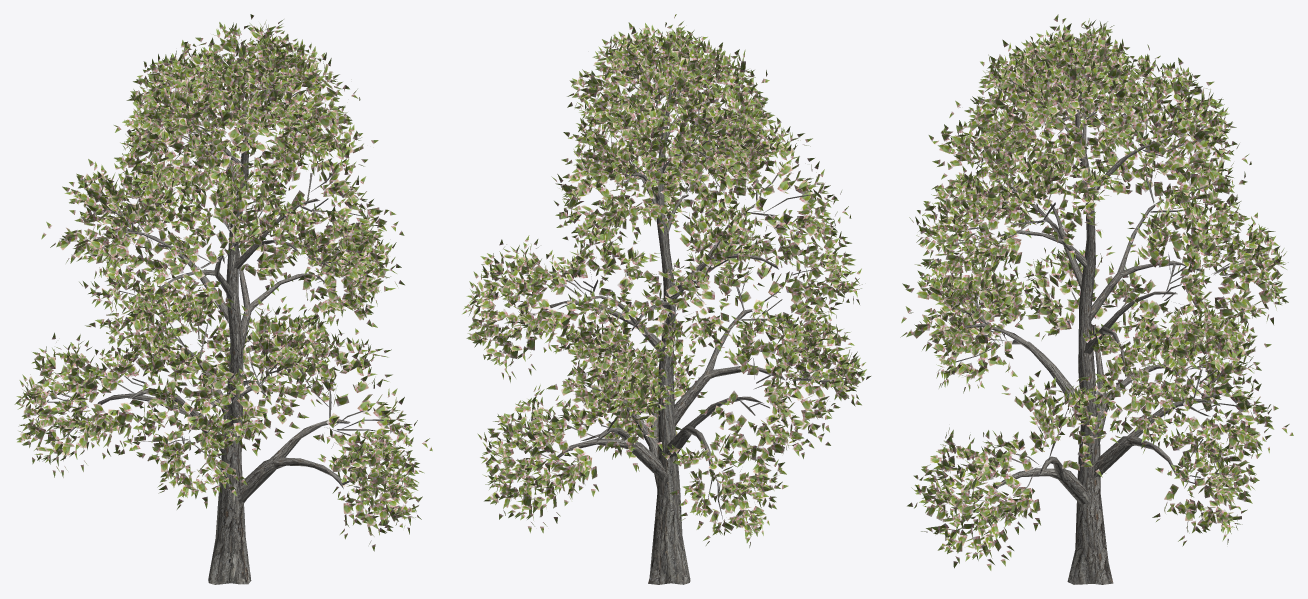
The model's file is SM_HP_Tree.glb.
The picture shows the model from 3 angles, left to right: view 1: azimuth 30°, elevation 25°; view 2: azimuth 150°, elevation 25°; view 3: azimuth 270°, elevation 25°; orthographic projection. The views are drawn at different scales.
Visible parts, largest first — view 1: SM_HP_Tree; view 2: SM_HP_Tree; view 3: SM_HP_Tree.
Boxes of the visible parts, x1,y1,x2,y2 form: SM_HP_Tree: (14,14,432,584); SM_HP_Tree: (462,14,870,584); SM_HP_Tree: (900,14,1293,584).
Bounding box in the file's own units: 18.12 × 27.46 × 17.25.
Materials: 2 (2 with a texture image).
